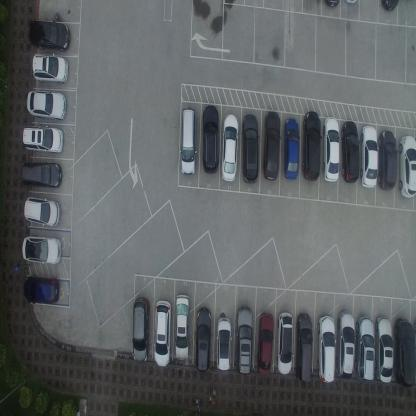car: (393, 317, 416, 389), (261, 109, 280, 182), (220, 113, 239, 184), (302, 110, 321, 181), (28, 19, 70, 51), (25, 88, 67, 120), (235, 306, 254, 376), (295, 310, 313, 382), (356, 315, 375, 383), (22, 195, 61, 228), (202, 105, 220, 176), (241, 114, 259, 185), (21, 234, 62, 265), (179, 108, 197, 178), (378, 128, 398, 191), (317, 314, 335, 384), (337, 310, 355, 380), (22, 124, 64, 154), (21, 160, 63, 190), (375, 314, 393, 382), (154, 300, 172, 368), (132, 296, 150, 363), (341, 120, 360, 183), (194, 306, 212, 372), (360, 124, 378, 189), (256, 311, 274, 375), (276, 309, 294, 373), (398, 134, 416, 198), (31, 54, 69, 84), (23, 275, 60, 305), (323, 115, 339, 182), (283, 115, 299, 180), (175, 293, 190, 361), (216, 317, 232, 372), (379, 0, 400, 14), (323, 0, 342, 10)
